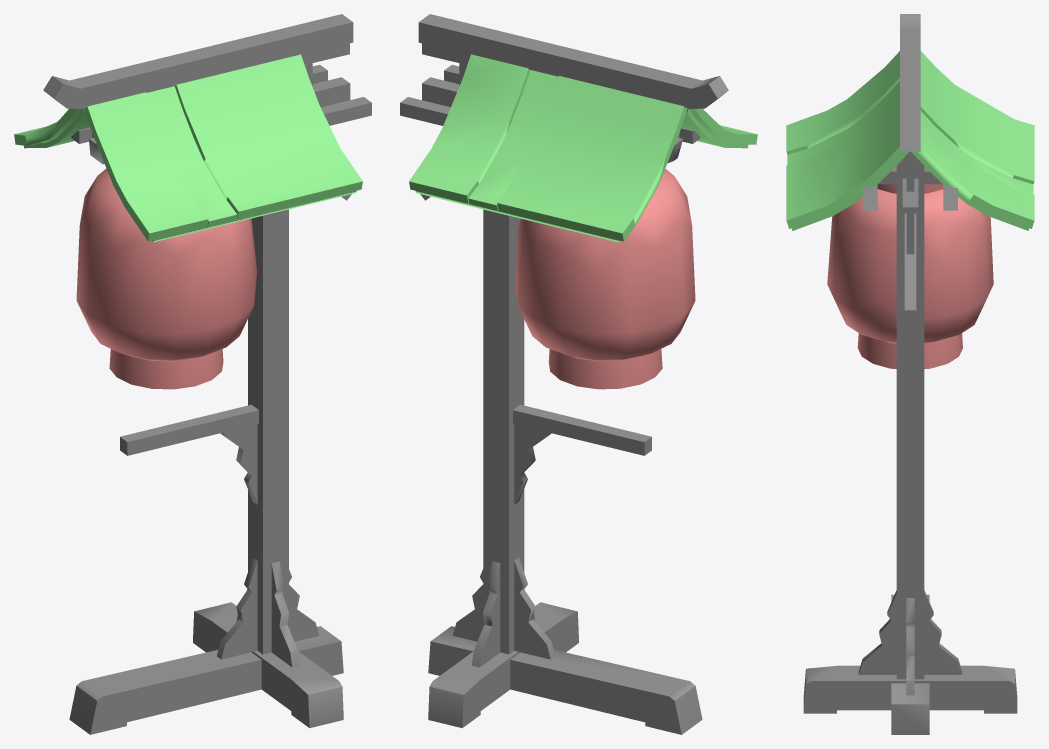
Rendered from SM_ENV_LKNVLD_InnSignboard_B_Lod2.gltf.
The picture shows the model from 3 angles, left to right: view 1: azimuth 30°, elevation 25°; view 2: azimuth 150°, elevation 25°; view 3: azimuth 270°, elevation 25°; orthographic projection. The views are drawn at different scales.
Parts seen in each view (by area): view 1: SM_ENV_LKNVLD_InnSignboard_B_Lod2; view 2: SM_ENV_LKNVLD_InnSignboard_B_Lod2; view 3: SM_ENV_LKNVLD_InnSignboard_B_Lod2.
Part boxes in pixels (x1,y1,x2,y2): SM_ENV_LKNVLD_InnSignboard_B_Lod2: (14,14,371,734); SM_ENV_LKNVLD_InnSignboard_B_Lod2: (400,14,757,734); SM_ENV_LKNVLD_InnSignboard_B_Lod2: (786,14,1034,734).
Size of the model in its own units: 1.29 by 2.67 by 1.
